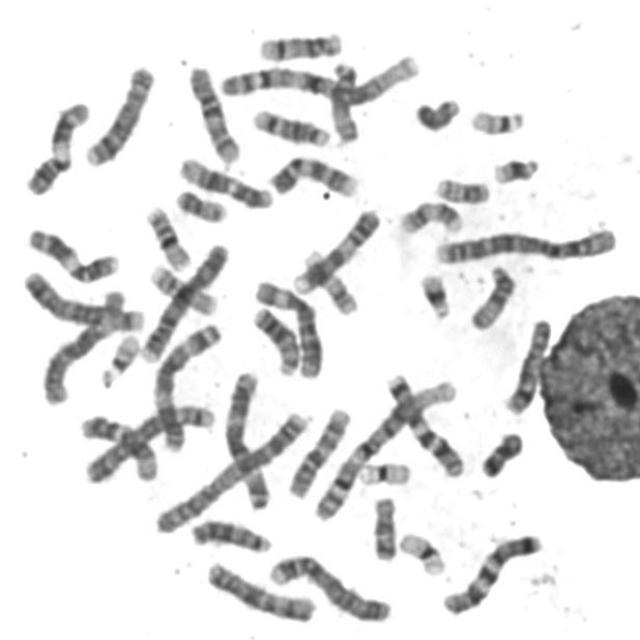A1: (304, 371, 459, 522), (211, 46, 424, 106)
A2: (147, 403, 313, 535), (427, 218, 620, 266)
A3: (147, 315, 225, 454), (220, 364, 274, 512)
B4: (133, 234, 233, 366), (262, 547, 394, 625)
B5: (76, 398, 218, 486), (16, 262, 146, 334)
C10: (282, 400, 353, 501), (182, 57, 242, 165)
C11: (19, 94, 92, 198), (20, 220, 121, 284)
C12: (74, 408, 160, 483), (171, 149, 274, 211)
C6: (35, 284, 132, 407), (248, 271, 326, 381)
C7: (434, 526, 545, 618), (379, 366, 467, 479)
C8: (79, 58, 156, 168), (497, 311, 554, 416)
C9: (286, 201, 383, 296), (263, 148, 361, 199)
D13: (246, 299, 302, 376), (184, 512, 274, 556)
D14: (245, 101, 332, 149), (251, 24, 346, 63)
D15: (462, 256, 519, 332), (324, 54, 363, 144)
E16: (141, 256, 218, 318), (138, 198, 192, 272)
E17: (298, 244, 360, 316), (391, 193, 465, 237)
E18: (473, 424, 526, 479), (364, 489, 400, 563)
F19: (392, 525, 448, 578), (352, 452, 414, 489)
F20: (169, 181, 229, 224), (429, 169, 492, 205)
G21: (412, 264, 455, 322), (486, 148, 542, 186)
G22: (93, 326, 143, 389), (463, 101, 528, 137)
X: (199, 554, 318, 624)
Y: (408, 90, 463, 133)
